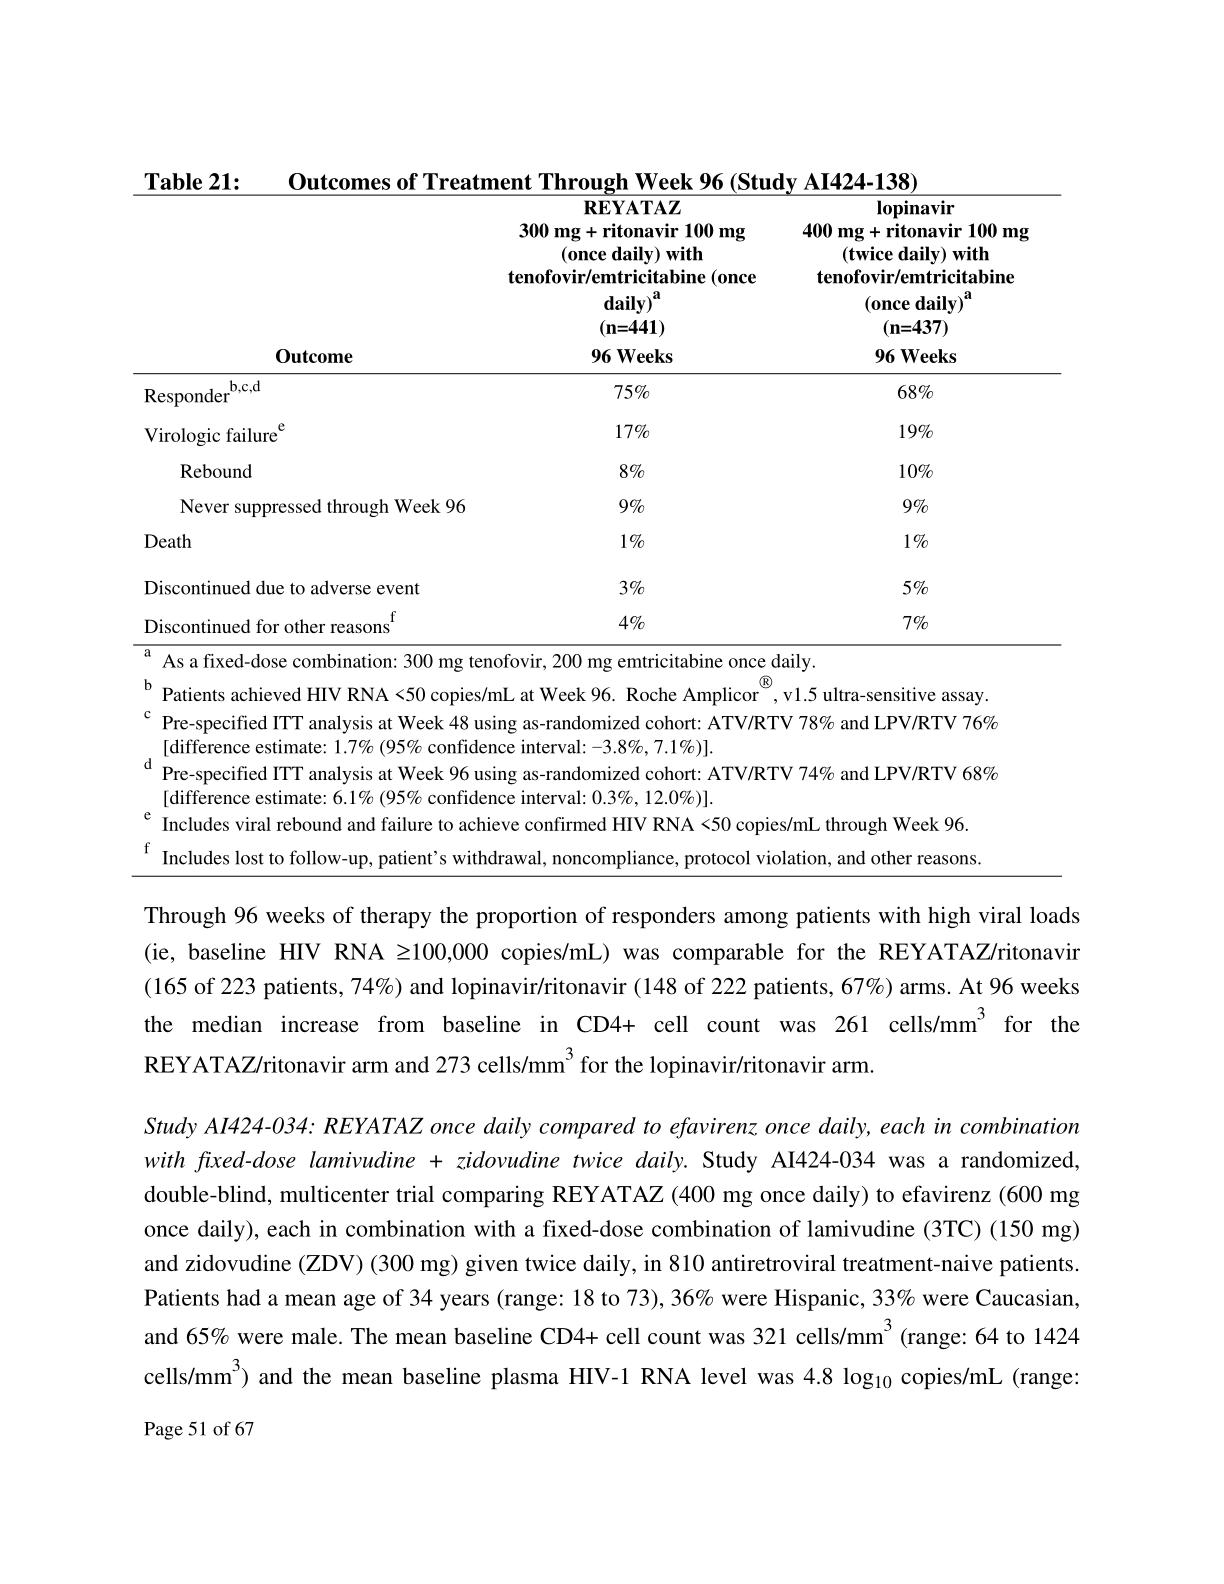partial_lined: (132, 192, 1065, 647)
